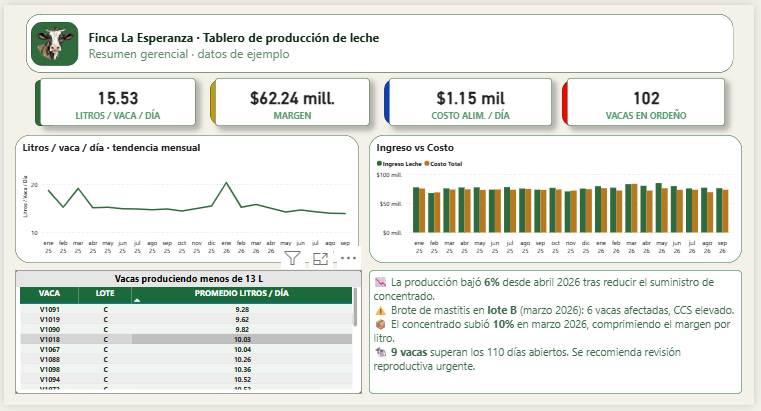

What the dashboard file says about the page in this screenshot:
{"tool":"powerbi","page":{"name":"Resumen Gerencial","canvas":[1500,800],"ordinal":0},"visuals":[{"type":"group","id":"g1","title":"Grupo 1","box":[61,145,1380.7,96.7],"z":0},{"type":"shape","box":[61,148,42.3,92],"z":0,"group":"g1"},{"type":"shape","box":[42.5,17.5,1415,117.5],"z":1000,"group":"g2"},{"type":"shape","box":[410,147.5,43.6,92.5],"z":1000,"group":"g1"},{"type":"lineChart","title":"Litros / vaca / día · tendencia mensual","fields":{"Y":["Medidas.Litros por Vaca Día"],"Category":["dim_fecha.Mes Corto"]},"box":[22,260,688,256],"z":1000},{"type":"textbox","box":[163.3,41.7,601.7,75],"z":2000,"group":"g2"},{"type":"card","fields":{"Values":["Medidas.Litros por Vaca Día"]},"box":[71.7,145.7,311.4,96],"z":2000,"group":"g1"},{"type":"clusteredColumnChart","title":"Ingreso vs Costo","fields":{"Y":["Medidas.Ingreso Leche","Medidas.Costo Total"],"Category":["dim_fecha.Mes Corto"]},"box":[730,260,746,256],"z":2000},{"type":"shape","box":[53.6,34,94.7,87.6],"z":3000,"group":"g2"},{"type":"shape","box":[758,147,42,92],"z":3000,"group":"g1"},{"type":"tableEx","title":"Vacas produciendo menos de 13 L","fields":{"Values":["vacas.vaca_id","vacas.lote_base","Avg(control_lechero.litros_dia)"]},"box":[22,530,694,248],"z":3000},{"type":"image","box":[41.1,34,121.6,89.4],"z":4000,"group":"g2"},{"type":"card","fields":{"Values":["Medidas.Margen"]},"box":[420.4,145,308.9,96],"z":4000,"group":"g1"},{"type":"textbox","box":[730,530,746,248],"z":4000},{"type":"group","id":"g2","title":"Grupo 2","box":[41.1,17.5,1416.4,117.5],"z":5000},{"type":"shape","box":[1115,149,42.3,92],"z":5000,"group":"g1"},{"type":"card","fields":{"Values":["Medidas.Costo Alimentación por Litro"]},"box":[768.3,145.7,326.3,96],"z":6000,"group":"g1"},{"type":"card","fields":{"Values":["Medidas.Vacas en Ordeño"]},"box":[1125.4,145.7,316.4,96],"z":7000,"group":"g1"}]}

Visuals, with their boxes in screenshot pixels (x1, y1, x2, y2), scaled from the page's 1500x800 canvas onto the 761x411 screenshot:
"Grupo 1" group: {"left": 31, "top": 74, "right": 731, "bottom": 124}
shape: {"left": 31, "top": 76, "right": 52, "bottom": 123}
shape: {"left": 22, "top": 9, "right": 739, "bottom": 69}
shape: {"left": 208, "top": 76, "right": 230, "bottom": 123}
"Litros / vaca / día · tendencia mensual" lineChart: {"left": 11, "top": 134, "right": 360, "bottom": 265}
textbox: {"left": 83, "top": 21, "right": 388, "bottom": 60}
card - Medidas.Litros por Vaca Día: {"left": 36, "top": 75, "right": 194, "bottom": 124}
"Ingreso vs Costo" clusteredColumnChart: {"left": 370, "top": 134, "right": 749, "bottom": 265}
shape: {"left": 27, "top": 17, "right": 75, "bottom": 62}
shape: {"left": 385, "top": 76, "right": 406, "bottom": 123}
"Vacas produciendo menos de 13 L" tableEx: {"left": 11, "top": 272, "right": 363, "bottom": 400}
image: {"left": 21, "top": 17, "right": 83, "bottom": 63}
card - Medidas.Margen: {"left": 213, "top": 74, "right": 370, "bottom": 124}
textbox: {"left": 370, "top": 272, "right": 749, "bottom": 400}
"Grupo 2" group: {"left": 21, "top": 9, "right": 739, "bottom": 69}
shape: {"left": 566, "top": 77, "right": 587, "bottom": 124}
card - Medidas.Costo Alimentación por Litro: {"left": 390, "top": 75, "right": 555, "bottom": 124}
card - Medidas.Vacas en Ordeño: {"left": 571, "top": 75, "right": 731, "bottom": 124}
